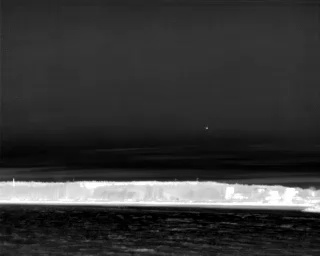HELICOPTER: (203, 124, 210, 132)
